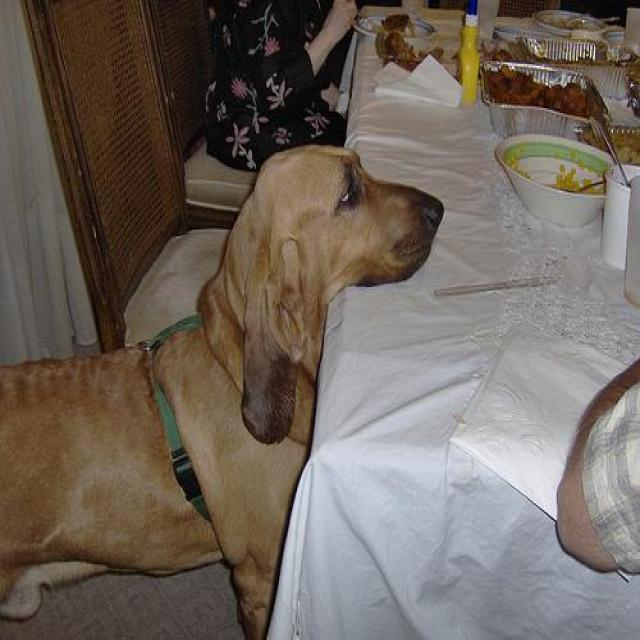bloodhound: (3, 138, 448, 634)
